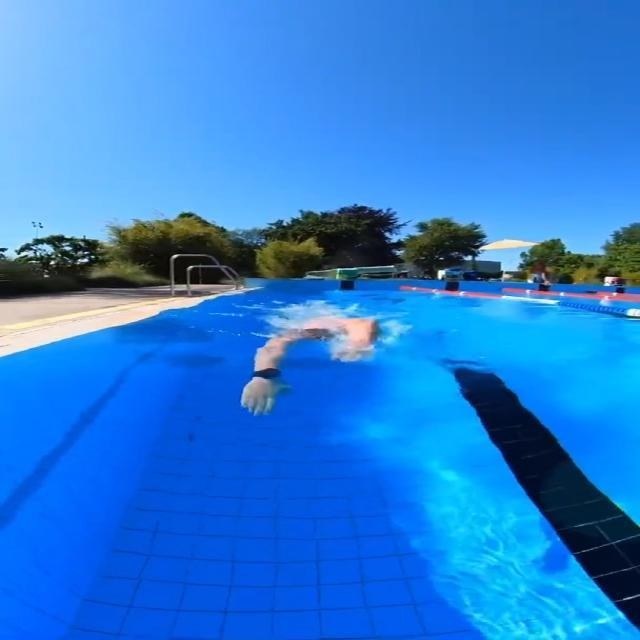Swimming: (242, 314, 394, 418)
